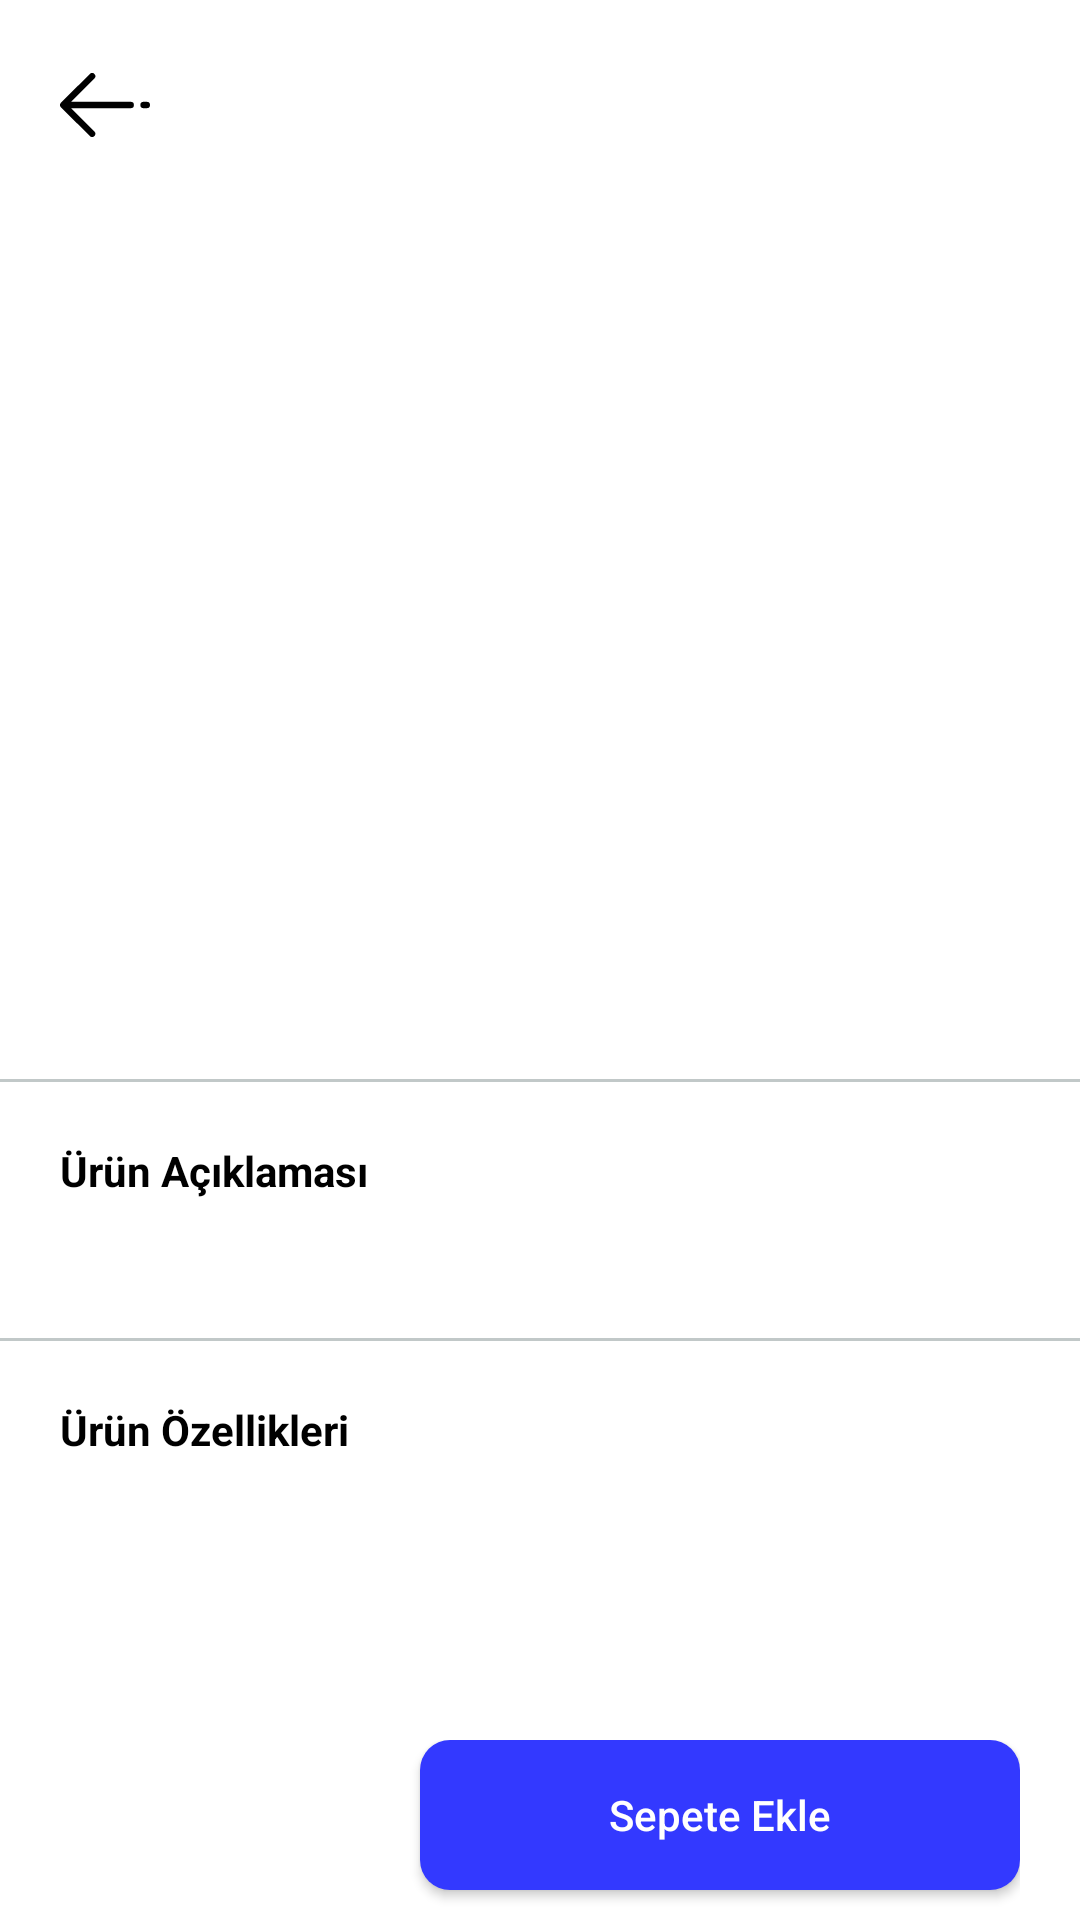

Where to tap for icons on this 1080w x 1920h app screen, as [x,y]:
back: [105,105]
